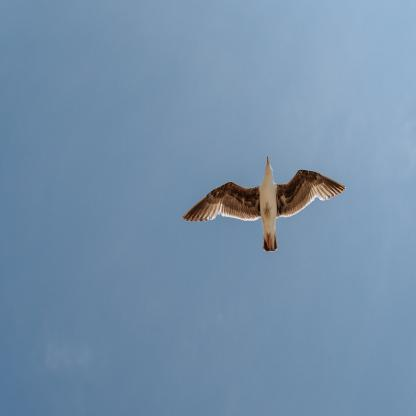bird: (184, 154, 346, 253)
